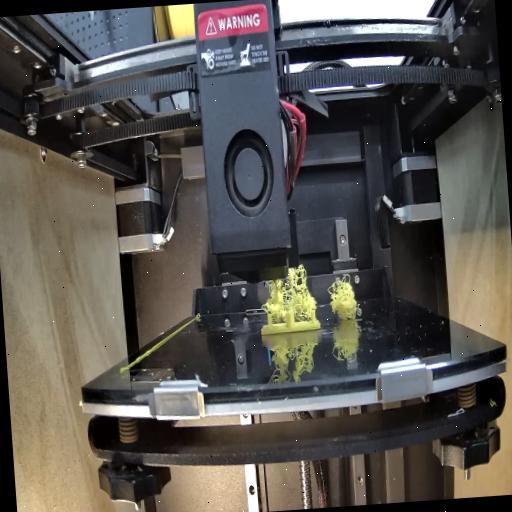spaghetti: (268, 268, 316, 320), (326, 273, 357, 322)
